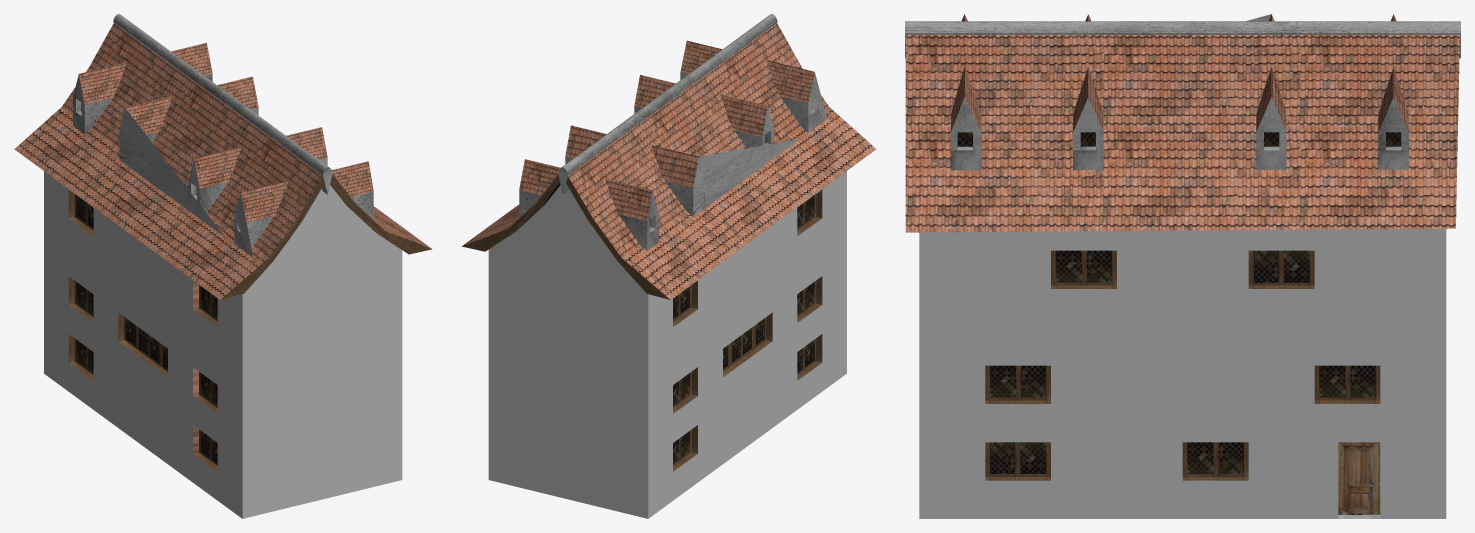
File: BuildingF.fbx
3 renders of one model, left to right at view 1: azimuth 30°, elevation 25°; view 2: azimuth 150°, elevation 25°; view 3: azimuth 270°, elevation 25°, orthographic. The views are drawn at different scales.
Parts seen in each view (by area): view 1: BuildingF; view 2: BuildingF; view 3: BuildingF.
Boxes of the visible parts, x1,y1,x2,y2 form: BuildingF: (14, 14, 432, 518); BuildingF: (461, 14, 876, 518); BuildingF: (905, 14, 1460, 518).
Bounding box in the file's own units: 708 × 1078 × 1219.
